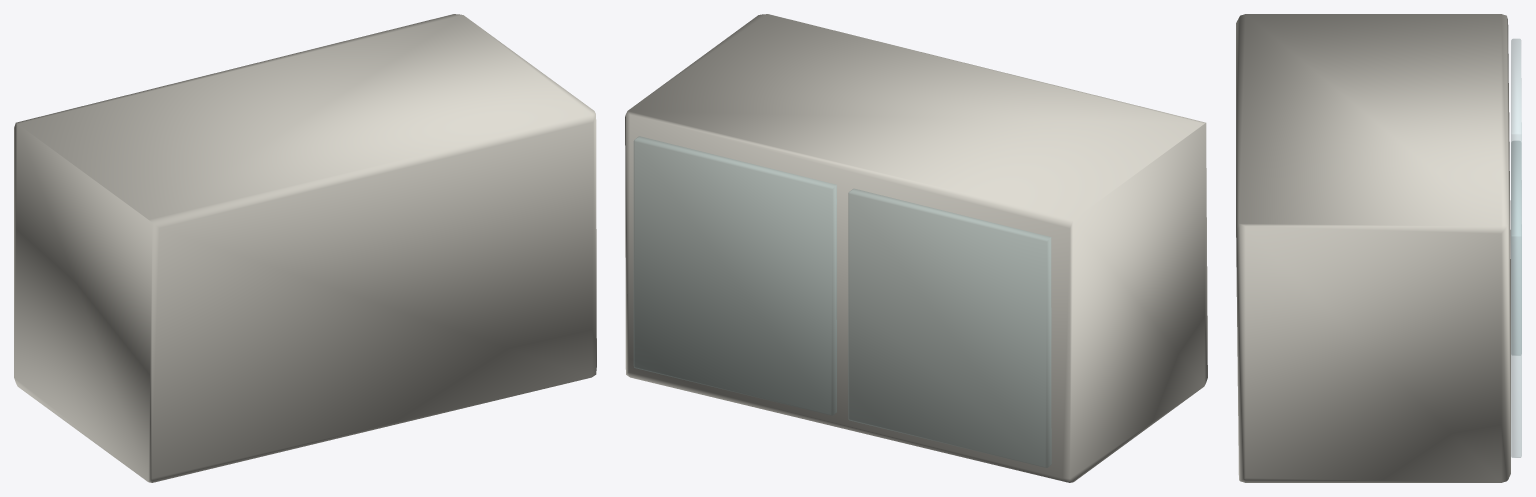
File: display_freezer_chest.glb
3 views of the same model, side by side, from view 1: azimuth 30°, elevation 25°; view 2: azimuth 150°, elevation 25°; view 3: azimuth 270°, elevation 25° (orthographic). The views are drawn at different scales.
Visible parts, largest first — view 1: Freezer; view 2: Freezer, Lid, Lid.001; view 3: Freezer, Lid.001, Lid.
Part boxes in pixels (x1,y1,x2,y2): Freezer: [14, 14, 596, 482]; Freezer: [625, 14, 1207, 482]; Lid: [848, 189, 1051, 467]; Lid.001: [634, 136, 836, 415]; Freezer: [1236, 14, 1510, 482]; Lid.001: [1511, 141, 1521, 457]; Lid: [1511, 39, 1521, 355].
Bounding box in the file's own units: 1.84 × 1.03 × 1.04.
